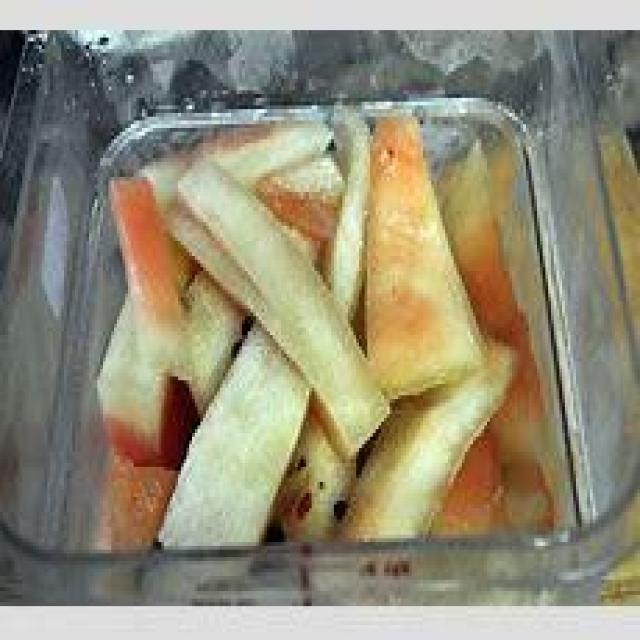Wet: (86, 98, 557, 542)
